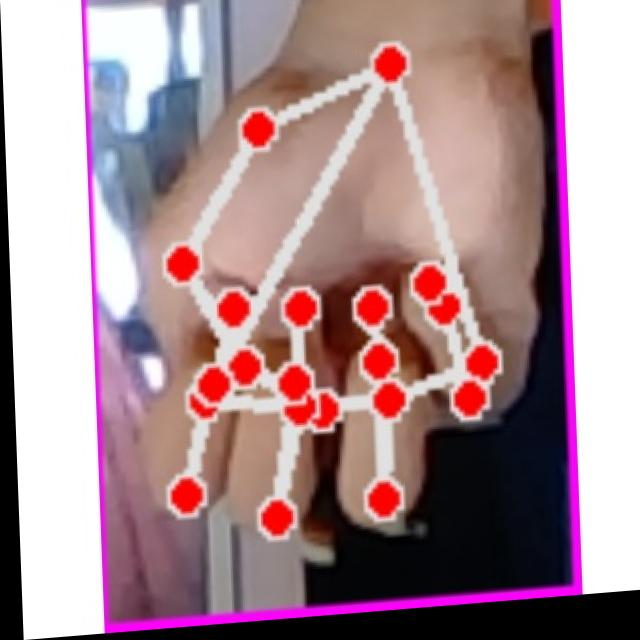M: (105, 17, 551, 566)
